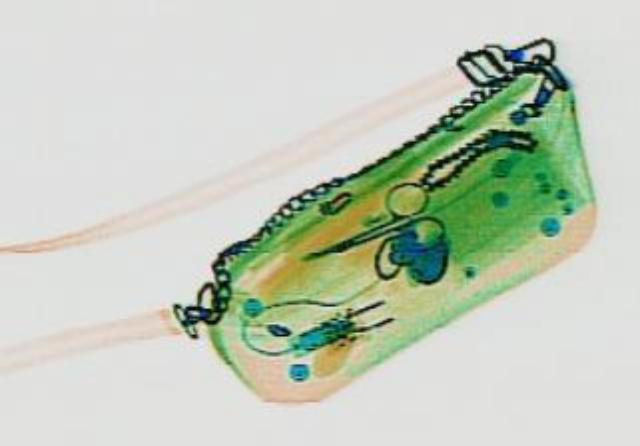Scissors: (282, 174, 463, 278)
